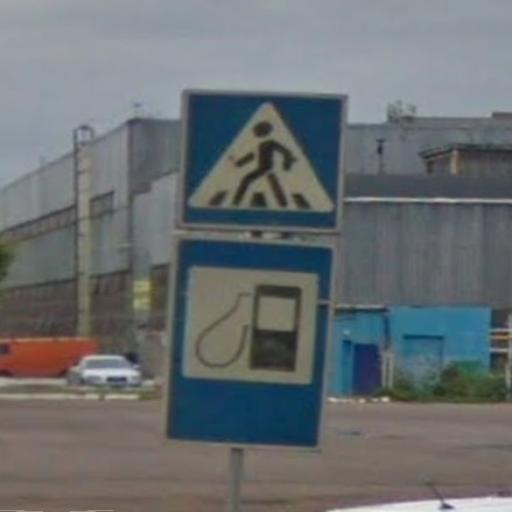traffic_sign: (162, 235, 338, 453), (176, 88, 351, 236)
